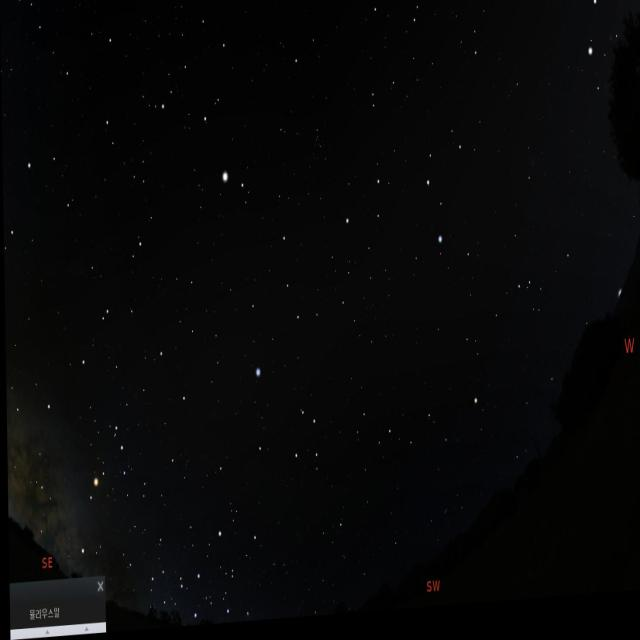bootes: (173, 0, 245, 208)
leo: (332, 109, 492, 294)
scorpius: (32, 412, 136, 573)
